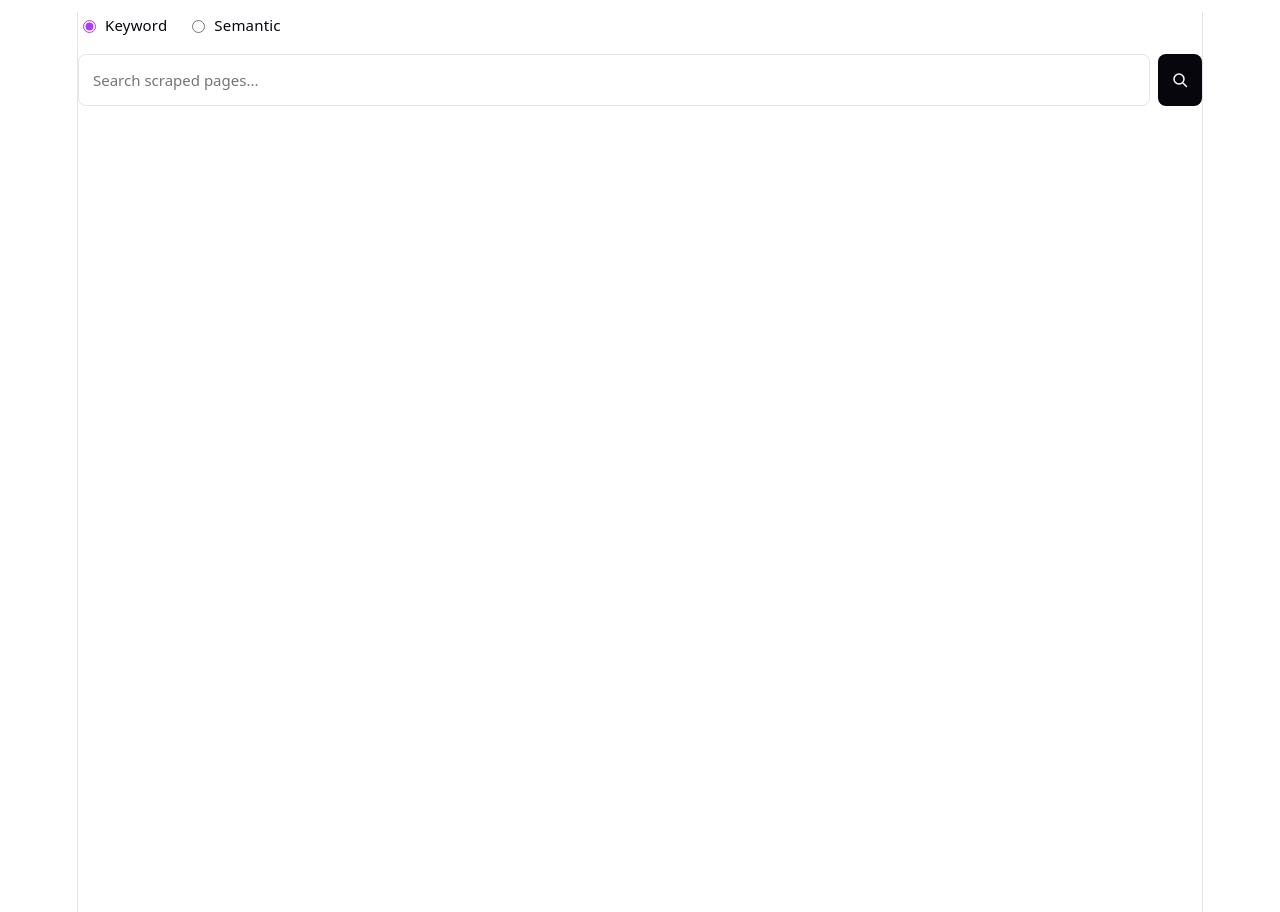
Scenario: SearchView › shows a clean error message when the API is unreachable
The image size is (1280, 912).
Type "books" into the field named "search query" at (614, 80), box [78,54,1150,106]
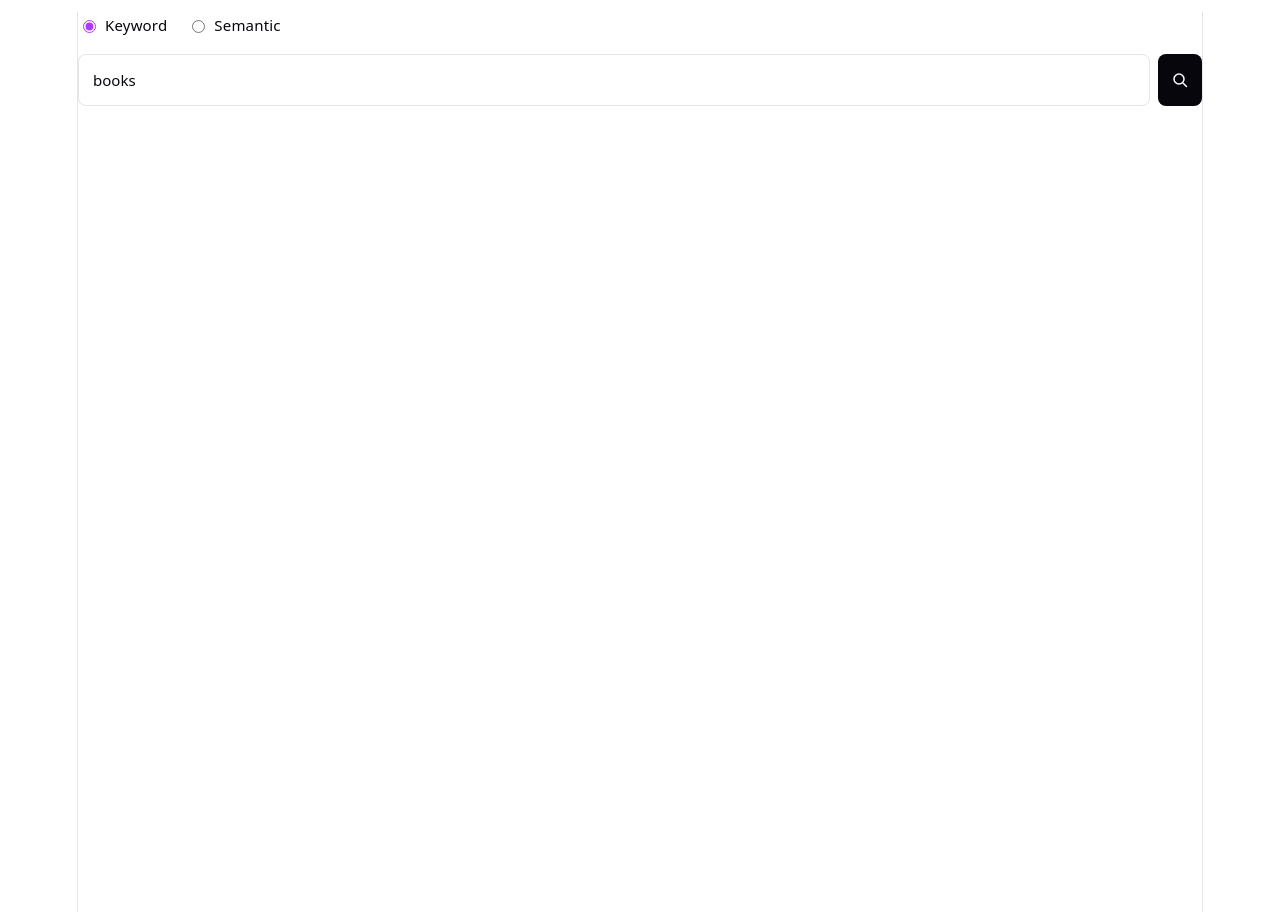
Submit the form named "search query", box [78,54,1202,106]
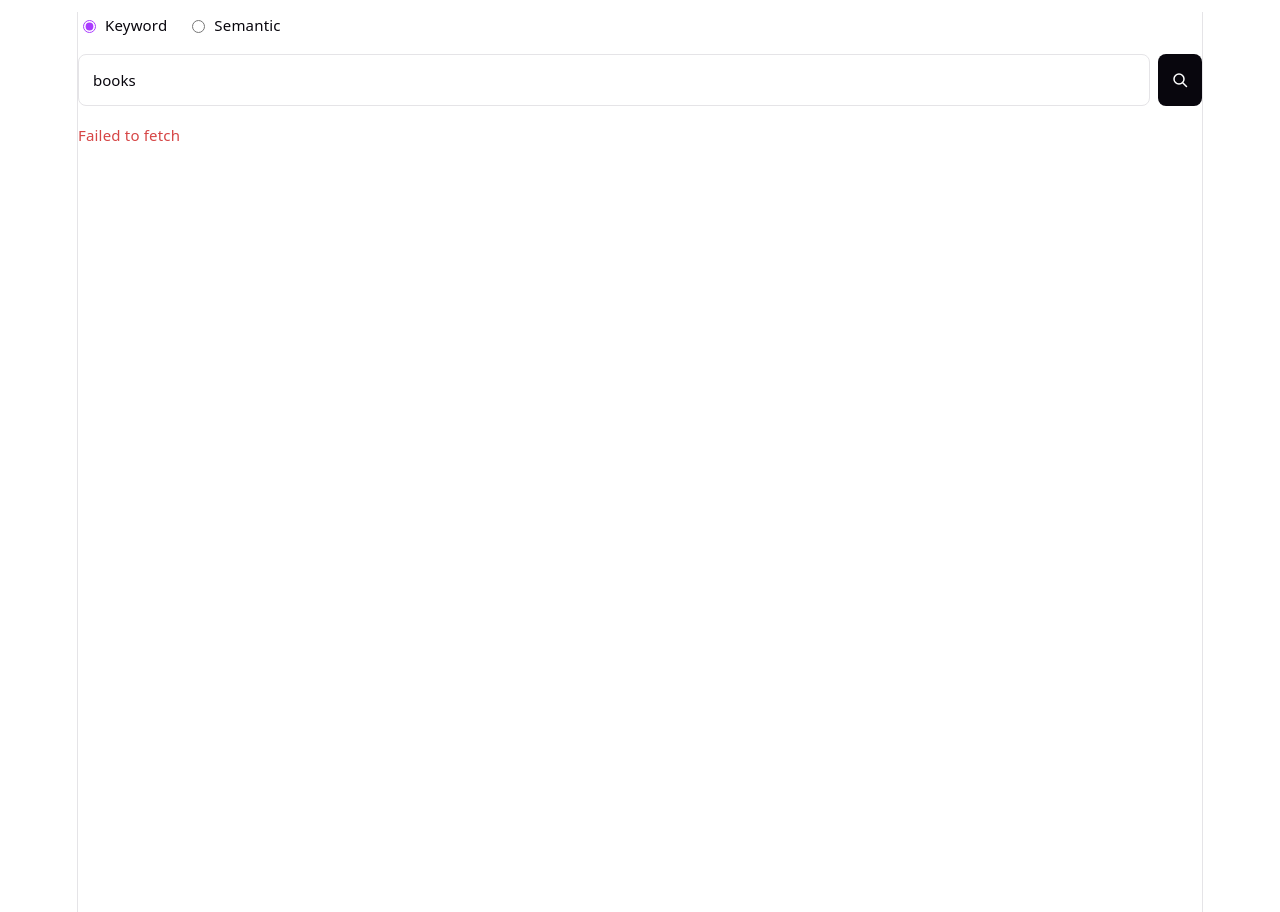
Now the message reads "Failed to fetch", box [78,125,180,145]
